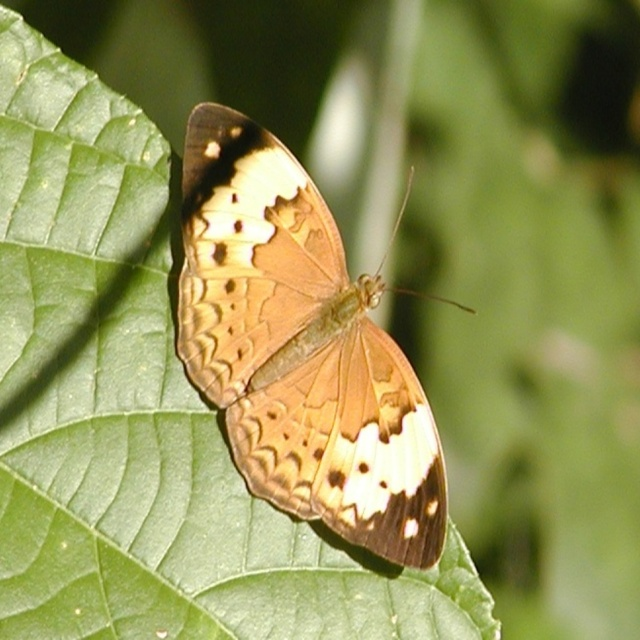Butterfly: (166, 85, 483, 565)
